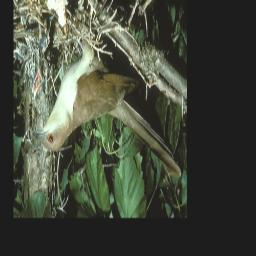Cuckoo: (32, 42, 181, 180)
